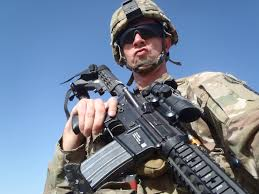gun: (68, 62, 250, 192)
